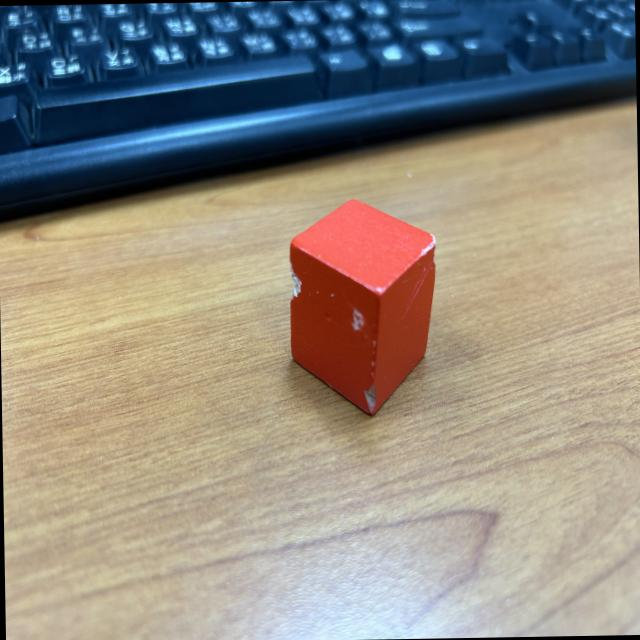broken: (288, 198, 438, 418)
